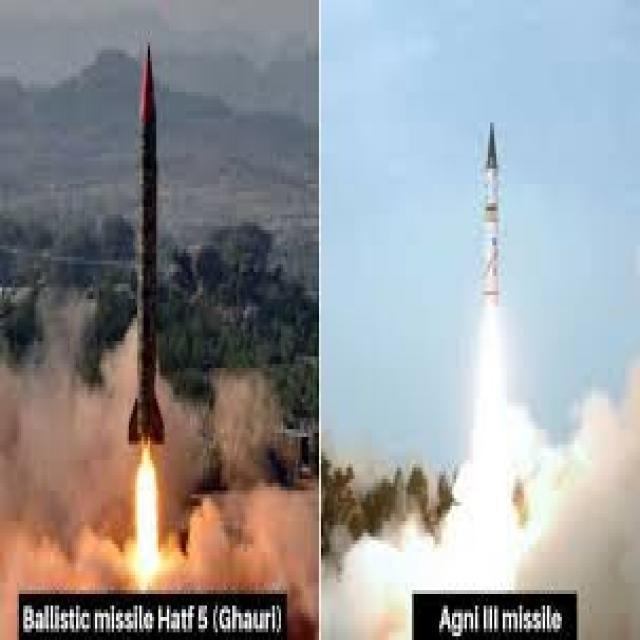Missile: (125, 21, 172, 448), (479, 101, 511, 307)
